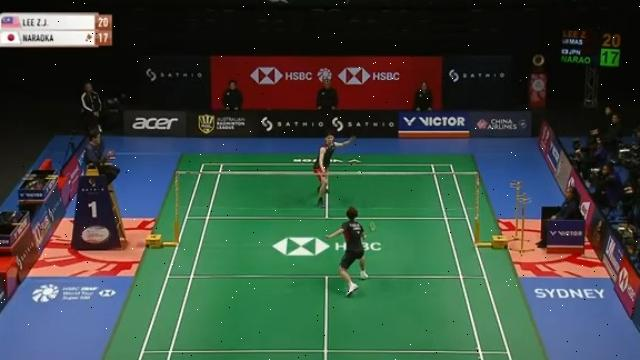Shuttlecock: (354, 168, 362, 176)
